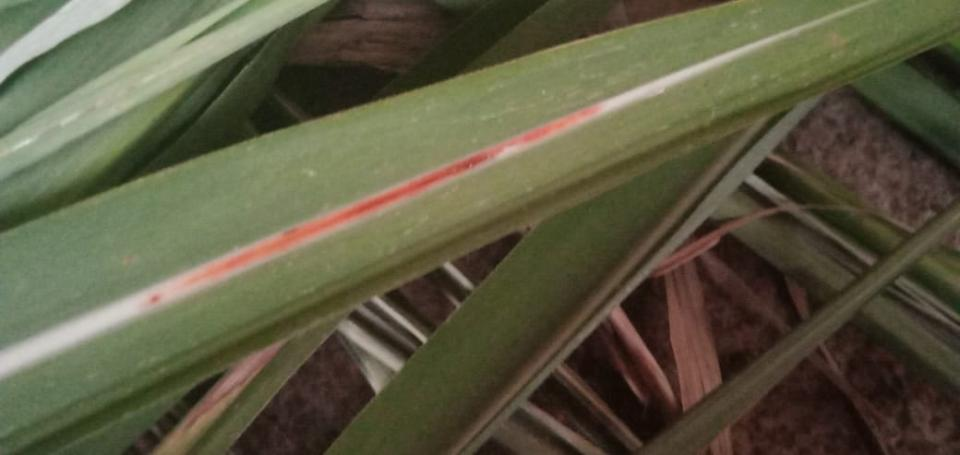RedRot: (141, 103, 606, 309)
